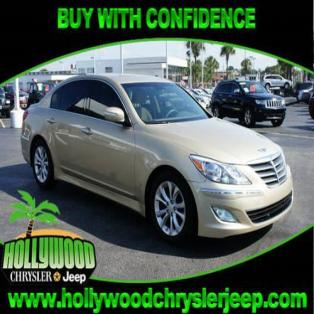Auto: (20, 72, 295, 247)
